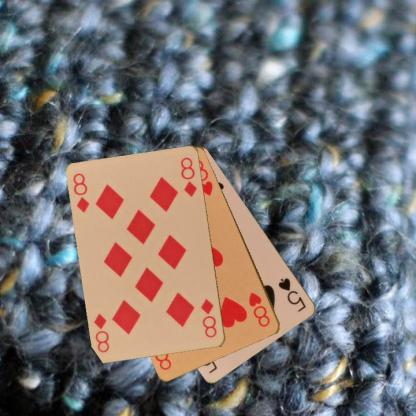5s: (276, 275, 308, 313)
8d: (70, 170, 92, 214), (198, 296, 219, 340)
8h: (246, 289, 272, 329)
